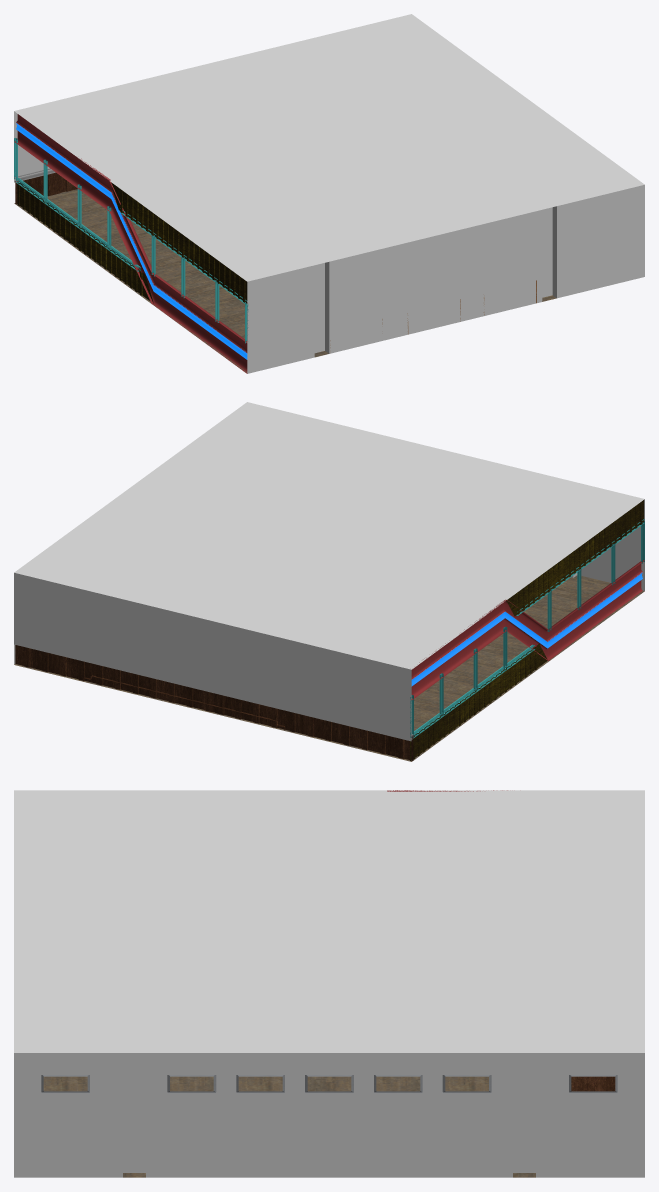
3 views of the same model, one above another, from view 1: azimuth 30°, elevation 25°; view 2: azimuth 150°, elevation 25°; view 3: azimuth 270°, elevation 25° (orthographic). The views are drawn at different scales.
Visible parts, largest first — view 1: Plane.002, Back_Wall, Window_Wall, Plane.001, Board_Wall; view 2: Plane.002, Board_Wall, Window_Wall, Plane.001, Back_Wall; view 3: Plane.002, Entrance_Wall, Plane.001, Cube.048.
Part boxes in pixels (<box>): Plane.002: <box>14,14,644,281</box>; Back_Wall: <box>247,184,644,373</box>; Window_Wall: <box>14,114,248,373</box>; Plane.001: <box>14,189,556,372</box>; Board_Wall: <box>14,111,77,204</box>; Plane.002: <box>14,402,644,669</box>; Board_Wall: <box>14,572,413,760</box>; Window_Wall: <box>410,500,644,760</box>; Plane.001: <box>14,575,644,761</box>; Back_Wall: <box>571,499,644,591</box>; Plane.002: <box>14,790,644,1052</box>; Entrance_Wall: <box>14,1053,644,1177</box>; Plane.001: <box>43,1076,535,1177</box>; Cube.048: <box>571,1076,615,1091</box>.
Size of the model in its own units: 1651 by 367 by 1676.
Materials: 11 (11 with a texture image).
